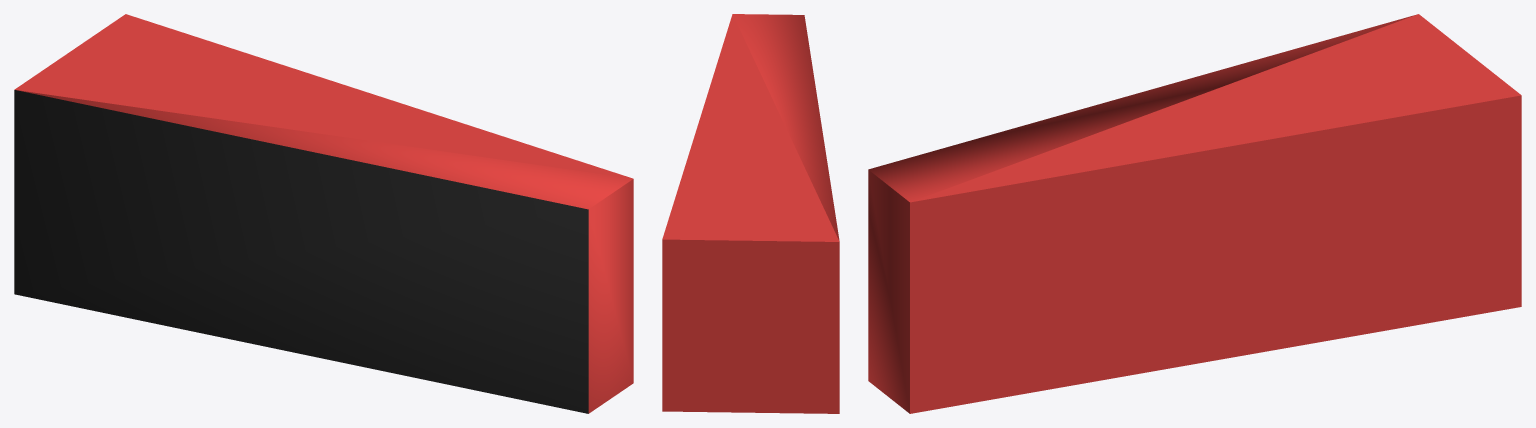
Rendered from Zone.fbx.
The picture shows the model from 3 angles, left to right: view 1: azimuth 30°, elevation 25°; view 2: azimuth 150°, elevation 25°; view 3: azimuth 270°, elevation 25°; orthographic projection. The views are drawn at different scales.
Parts seen in each view (by area): view 1: Circle.005; view 2: Circle.005; view 3: Circle.005.
Boxes of the visible parts, x1,y1,x2,y2 form: Circle.005: [14, 14, 633, 413]; Circle.005: [662, 14, 839, 413]; Circle.005: [868, 14, 1521, 413].
Bounding box in the file's own units: 40.03 × 20.95 × 58.66.
